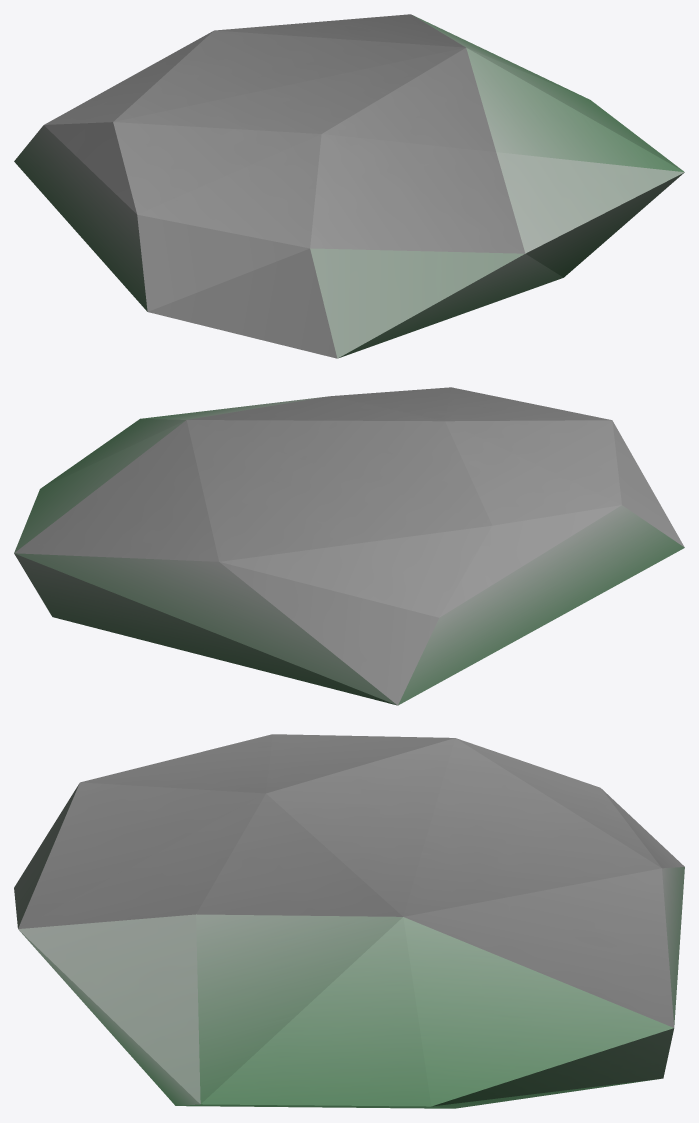
The model's file is rock_big_flat_mossy.fbx.
3 renders of one model, top to bottom at view 1: azimuth 30°, elevation 25°; view 2: azimuth 150°, elevation 25°; view 3: azimuth 270°, elevation 25°, orthographic. The views are drawn at different scales.
Visible parts, largest first — view 1: rock_big_flat_mossy; view 2: rock_big_flat_mossy; view 3: rock_big_flat_mossy.
Part boxes in pixels (box(x1,y1,x2,y2)): rock_big_flat_mossy: box(14, 14, 684, 358); rock_big_flat_mossy: box(14, 387, 684, 705); rock_big_flat_mossy: box(14, 734, 684, 1108).
Bounding box in the file's own units: 2 × 0.598 × 1.8.
1 material, 1 textured.
